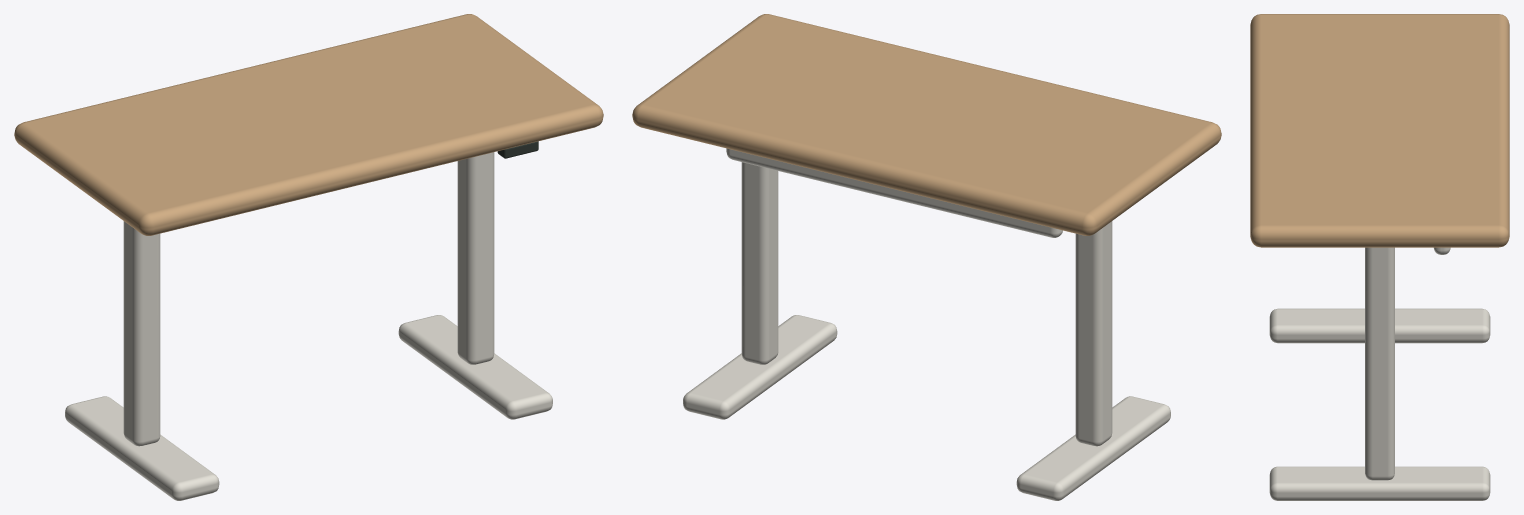
Rendered from electric-desk.glb.
3 views of the same model, side by side, from view 1: azimuth 30°, elevation 25°; view 2: azimuth 150°, elevation 25°; view 3: azimuth 270°, elevation 25° (orthographic). The views are drawn at different scales.
Parts seen in each view (by area): view 1: tabletop, electric-desk; view 2: tabletop, electric-desk; view 3: tabletop, electric-desk.
Boxes of the visible parts, x1=… form: tabletop: x1=14, y1=14, x2=603, y2=235; electric-desk: x1=65, y1=141, x2=552, y2=500; tabletop: x1=632, y1=14, x2=1221, y2=235; electric-desk: x1=683, y1=148, x2=1170, y2=500; tabletop: x1=1250, y1=14, x2=1509, y2=247; electric-desk: x1=1269, y1=247, x2=1490, y2=500.
Bounding box in the file's own units: 1.2 × 0.75 × 0.6001.
